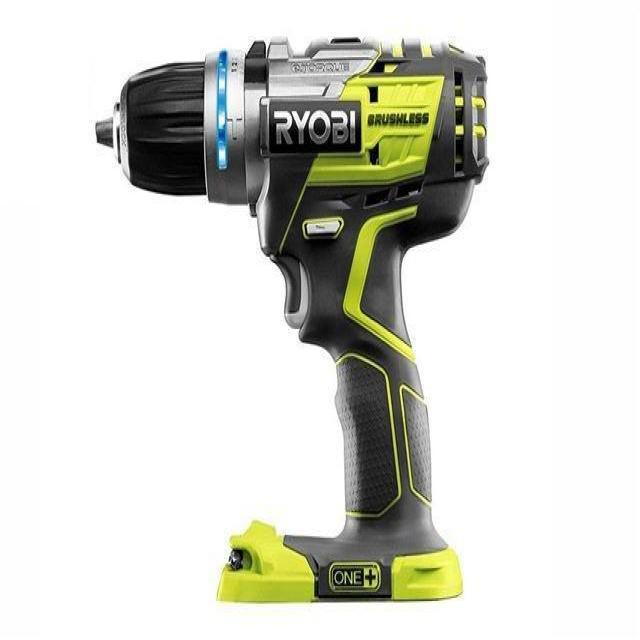drill: (94, 36, 492, 606)
